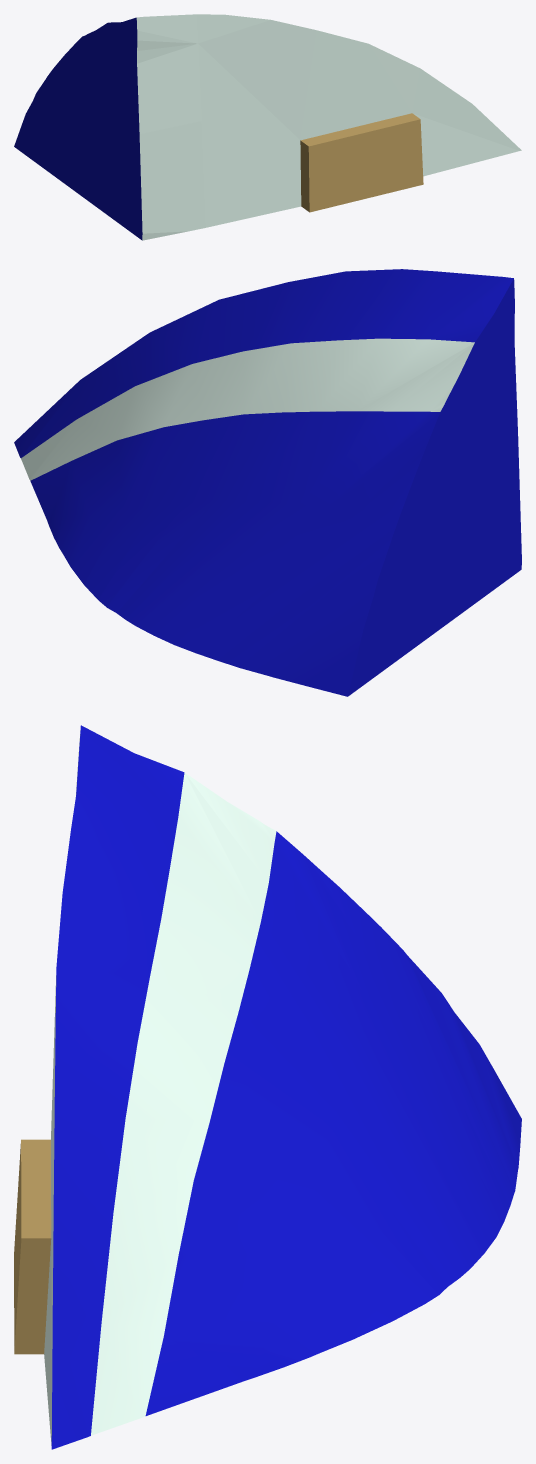
Rendered from frontLeft.obj.
3 renders of one model, top to bottom at view 1: azimuth 30°, elevation 25°; view 2: azimuth 150°, elevation 25°; view 3: azimuth 270°, elevation 25°, orthographic. The views are drawn at different scales.
Parts seen in each view (by area): view 1: centerLeft_Cabin_Plane.001_Windows.005; view 2: centerLeft_Cabin_Plane.001_Windows.005; view 3: centerLeft_Cabin_Plane.001_Windows.005.
Part boxes in pixels (x1,y1,x2,y2): centerLeft_Cabin_Plane.001_Windows.005: (14,14,521,240); centerLeft_Cabin_Plane.001_Windows.005: (14,269,521,696); centerLeft_Cabin_Plane.001_Windows.005: (14,725,521,1449).
Bounding box in the file's own units: 1.7 × 0.9446 × 1.1.
